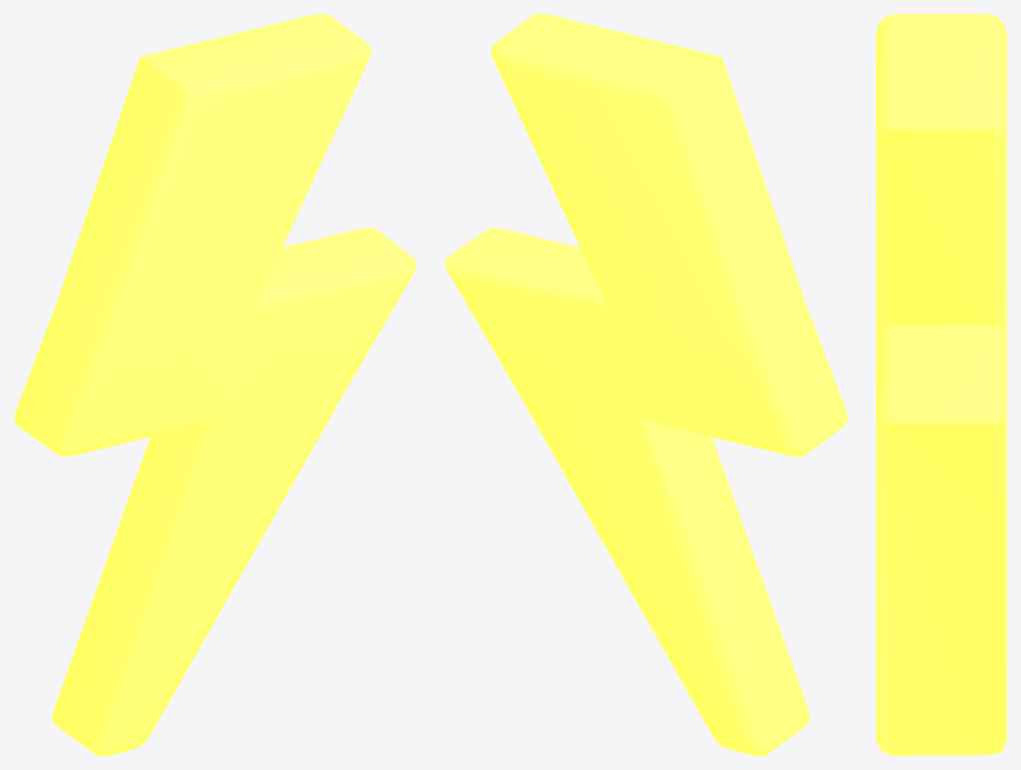
Rendered from Energy.fbx.
3 views of the same model, side by side, from view 1: azimuth 30°, elevation 25°; view 2: azimuth 150°, elevation 25°; view 3: azimuth 270°, elevation 25° (orthographic). The views are drawn at different scales.
Parts seen in each view (by area): view 1: Energy; view 2: Energy; view 3: Energy.
Boxes of the visible parts, bbox=[...] form: Energy: bbox=[14, 14, 416, 755]; Energy: bbox=[445, 14, 847, 755]; Energy: bbox=[876, 14, 1006, 755].
Bounding box in the file's own units: 0.5303 × 0.9098 × 0.14.
